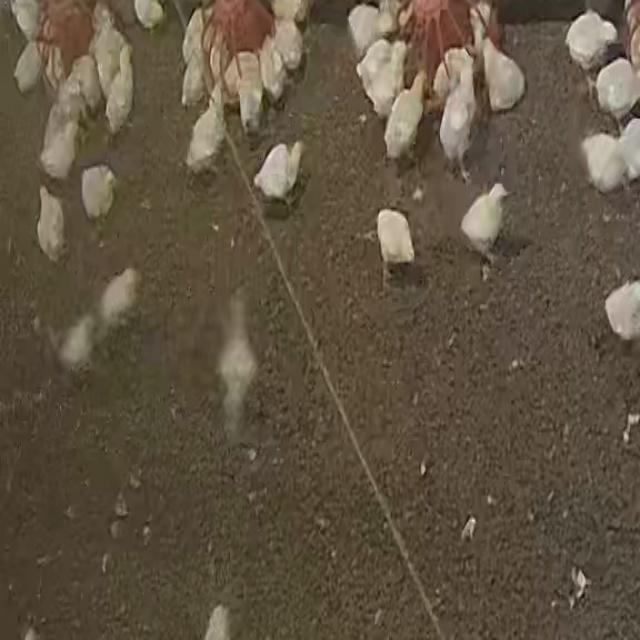chicken: (217, 295, 259, 436), (438, 63, 478, 176), (384, 73, 427, 165), (460, 184, 510, 262), (40, 94, 83, 180), (356, 38, 400, 114), (564, 9, 617, 70), (483, 37, 525, 112), (253, 142, 302, 206), (187, 97, 226, 176), (582, 133, 626, 195), (14, 40, 64, 94), (594, 57, 636, 120), (92, 14, 128, 86), (105, 52, 135, 136), (234, 51, 266, 129), (100, 267, 140, 326), (37, 188, 67, 264), (378, 208, 415, 268), (605, 281, 640, 344), (81, 162, 116, 220), (59, 316, 95, 372), (435, 47, 474, 98), (270, 17, 304, 71), (73, 52, 103, 112), (346, 3, 379, 54), (181, 46, 207, 109), (182, 4, 208, 67), (260, 38, 285, 95), (9, 0, 41, 37), (133, 1, 165, 30)
